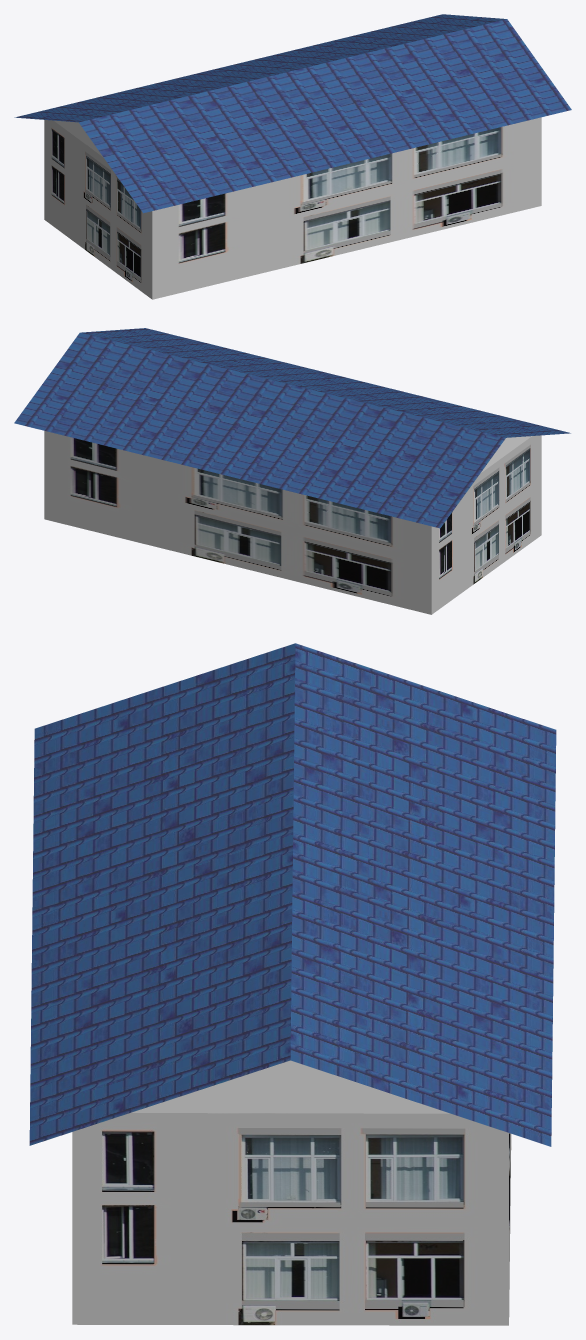
3 renders of one model, top to bottom at view 1: azimuth 30°, elevation 25°; view 2: azimuth 150°, elevation 25°; view 3: azimuth 270°, elevation 25°, orthographic. The views are drawn at different scales.
Parts seen in each view (by area): view 1: CityEngineMaterial_10_m, CityEngineMaterial_9_m, CityEngineMaterial_3_m; view 2: CityEngineMaterial_10_m, CityEngineMaterial_9_m, CityEngineMaterial_3_m; view 3: CityEngineMaterial_10_m, CityEngineMaterial_9_m, CityEngineMaterial_3_m.
Part boxes in pixels (<box>): CityEngineMaterial_10_m: <box>14,14,571,213</box>; CityEngineMaterial_9_m: <box>44,117,541,299</box>; CityEngineMaterial_3_m: <box>54,120,103,157</box>; CityEngineMaterial_10_m: <box>14,328,570,528</box>; CityEngineMaterial_9_m: <box>44,431,541,614</box>; CityEngineMaterial_3_m: <box>480,436,531,473</box>; CityEngineMaterial_10_m: <box>29,643,556,1146</box>; CityEngineMaterial_9_m: <box>72,1113,511,1325</box>; CityEngineMaterial_3_m: <box>131,1060,449,1113</box>.
Size of the model in its own units: 21.87 by 6.92 by 11.64.
